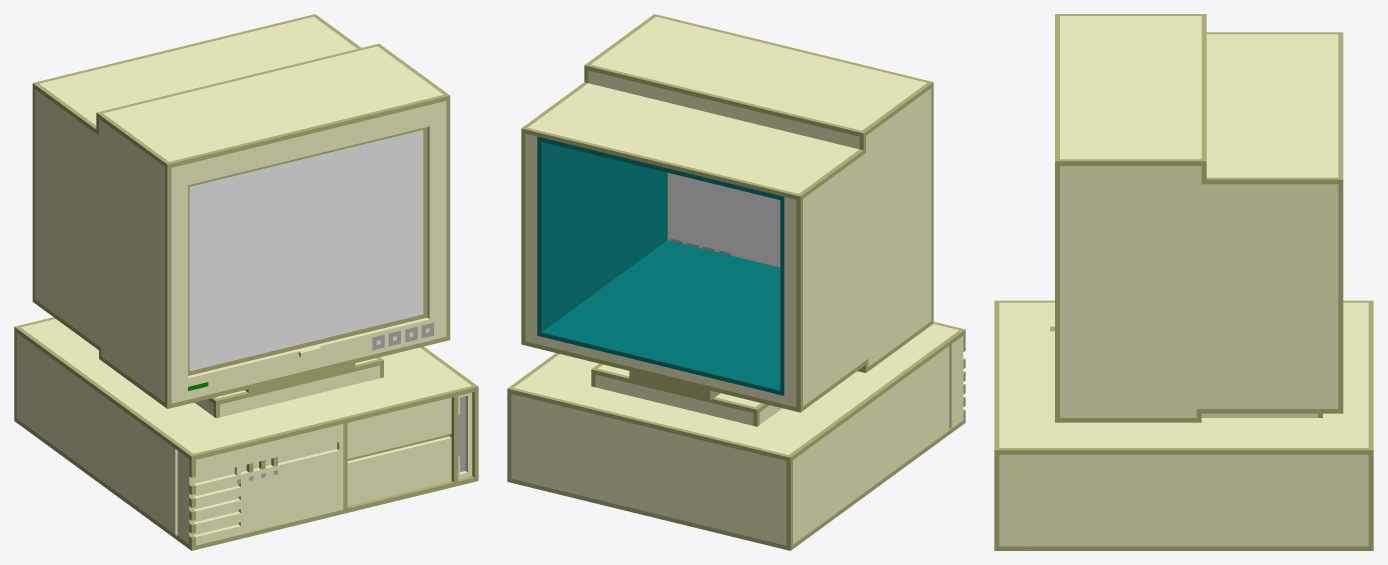
Rendered from PC_split.fbx.
The picture shows the model from 3 angles, left to right: view 1: azimuth 30°, elevation 25°; view 2: azimuth 150°, elevation 25°; view 3: azimuth 270°, elevation 25°; orthographic projection. The views are drawn at different scales.
Parts seen in each view (by area): view 1: PC, PC.001; view 2: PC, PC.001; view 3: PC.
Part boxes in pixels (bbox=[...]): PC: bbox=[14, 14, 478, 550]; PC.001: bbox=[189, 130, 423, 370]; PC: bbox=[507, 14, 965, 550]; PC.001: bbox=[670, 173, 780, 264]; PC: bbox=[994, 14, 1373, 550].
Size of the model in its own units: 700 by 850 by 750.
